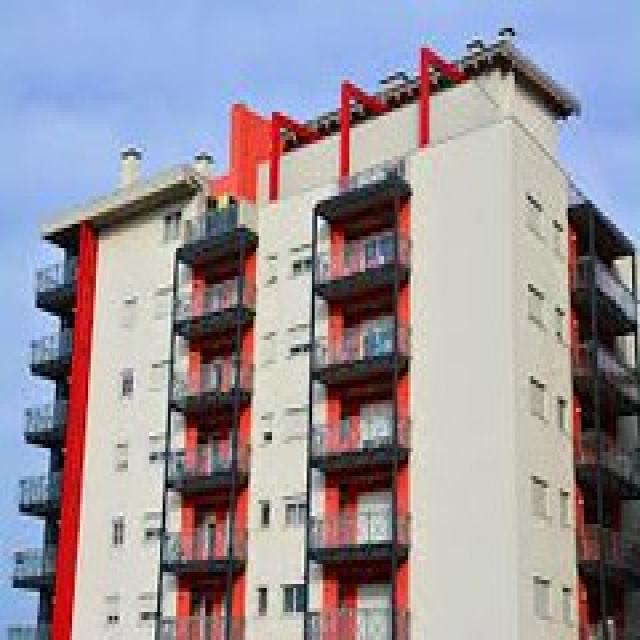building: (16, 48, 640, 640)
